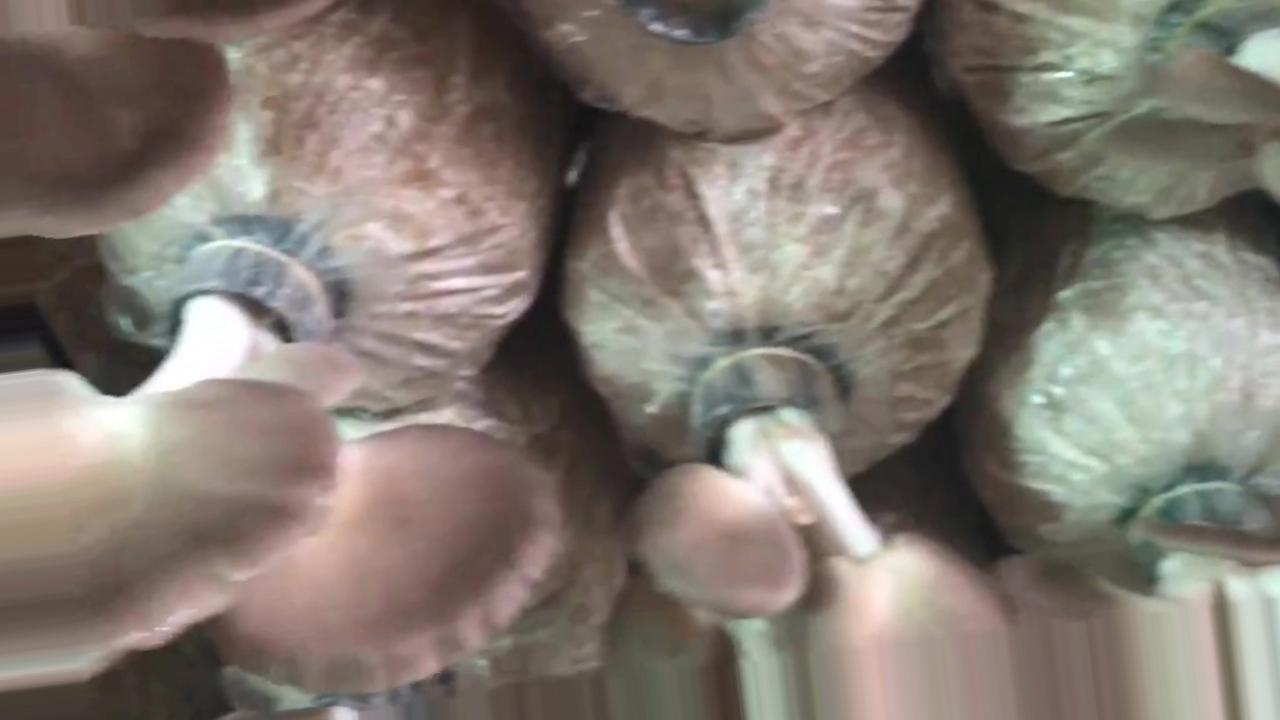nam: (1, 248, 567, 695), (620, 353, 1012, 720), (1, 13, 230, 239)
